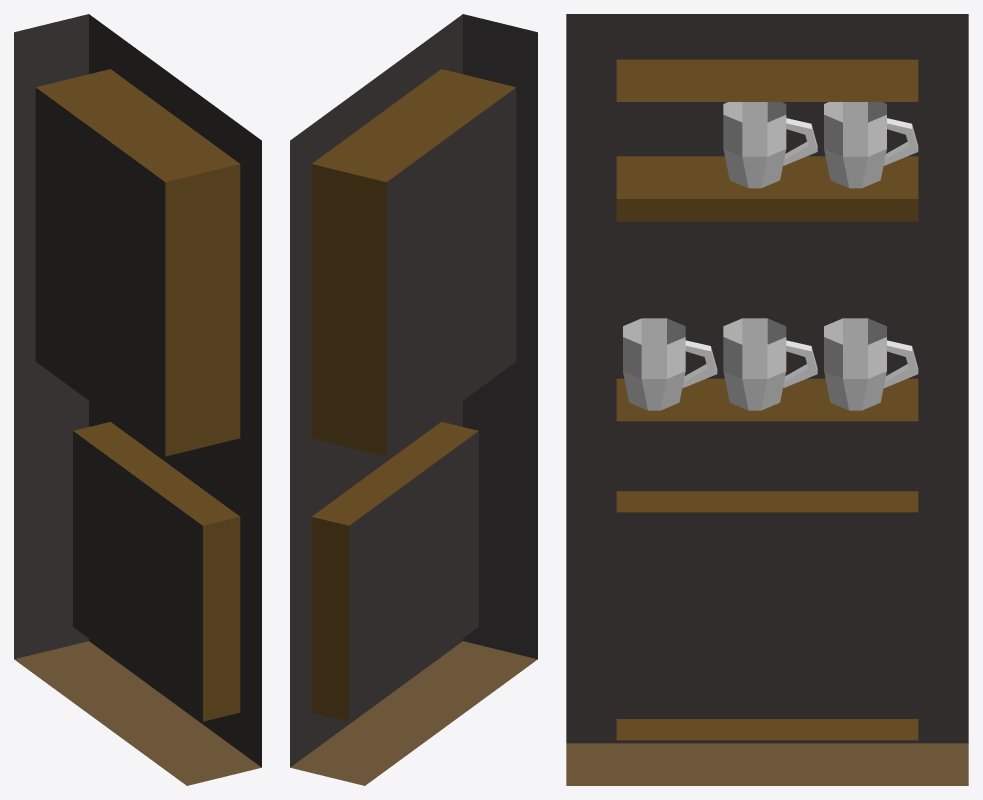
Rendered from obj_shelves_3_0.obj.
The picture shows the model from 3 angles, left to right: view 1: azimuth 30°, elevation 25°; view 2: azimuth 150°, elevation 25°; view 3: azimuth 270°, elevation 25°; orthographic projection. The views are drawn at different scales.
Bounding box in the file's own units: 0.25 × 2 × 1.
